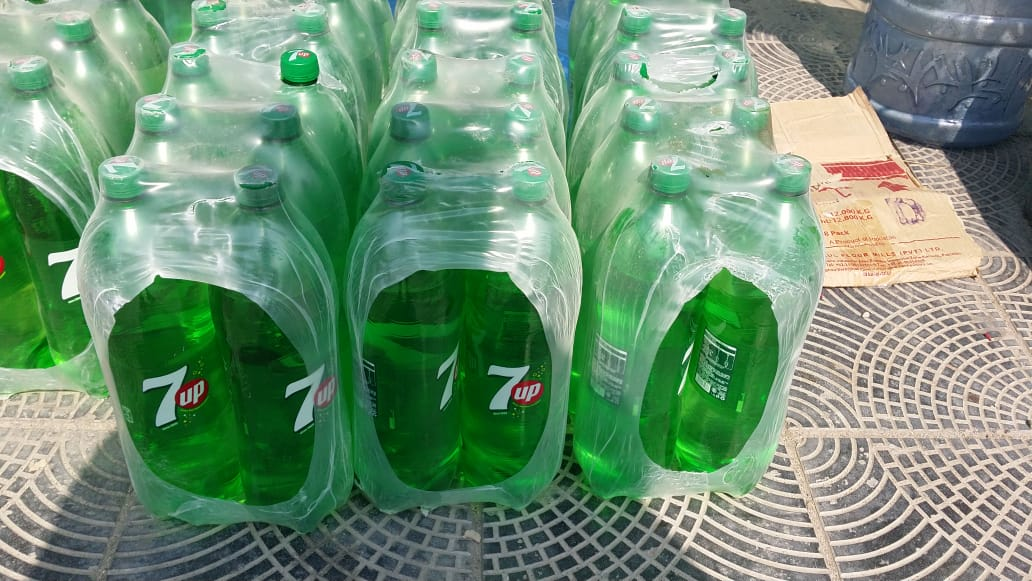7up: (137, 368, 212, 428), (285, 363, 337, 433), (485, 360, 542, 416), (435, 340, 462, 414), (657, 155, 685, 172), (396, 101, 422, 118), (509, 101, 535, 116), (288, 49, 309, 64)
